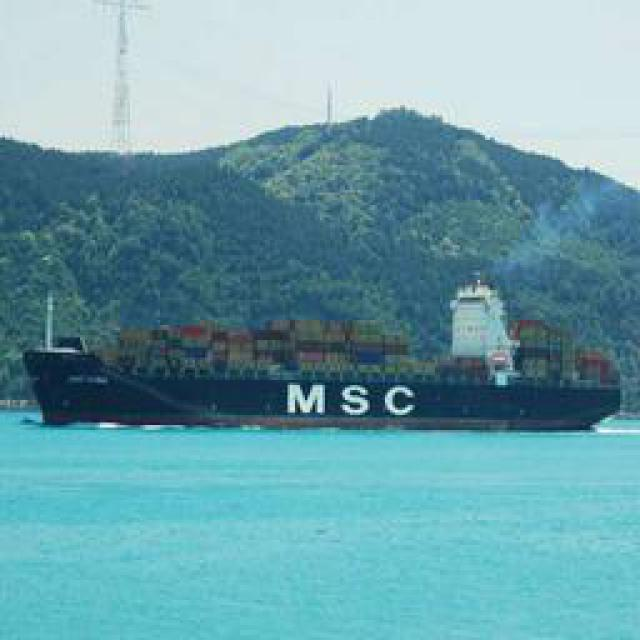Ship: (29, 352, 624, 430)
